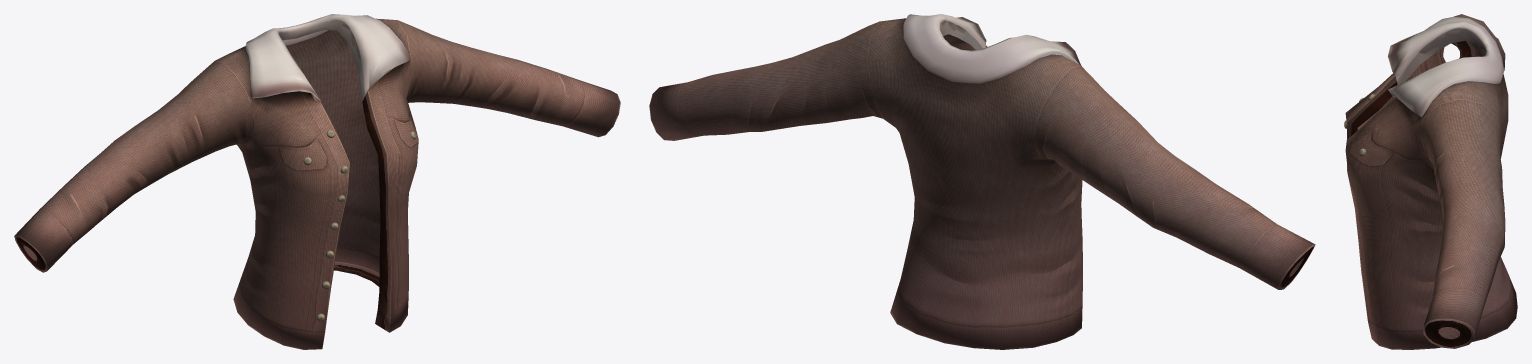
Rendered from jacket.fbx.
The picture shows the model from 3 angles, left to right: view 1: azimuth 30°, elevation 25°; view 2: azimuth 150°, elevation 25°; view 3: azimuth 270°, elevation 25°; orthographic projection. The views are drawn at different scales.
Visible parts, largest first — view 1: jacket; view 2: jacket; view 3: jacket.
Boxes of the visible parts, <box> form: jacket: <box>14,14,620,349</box>; jacket: <box>649,14,1315,349</box>; jacket: <box>1344,14,1517,349</box>.
Bounding box in the file's own units: 123 × 55.81 × 31.04.
